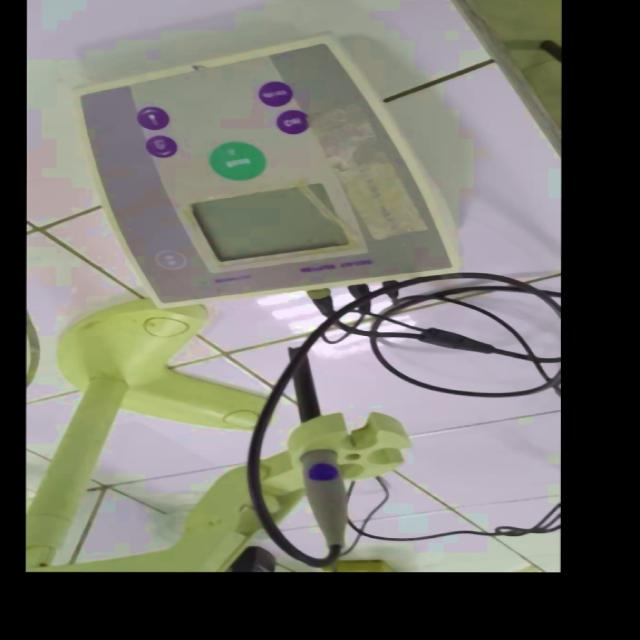PH meter: (58, 0, 560, 555)
